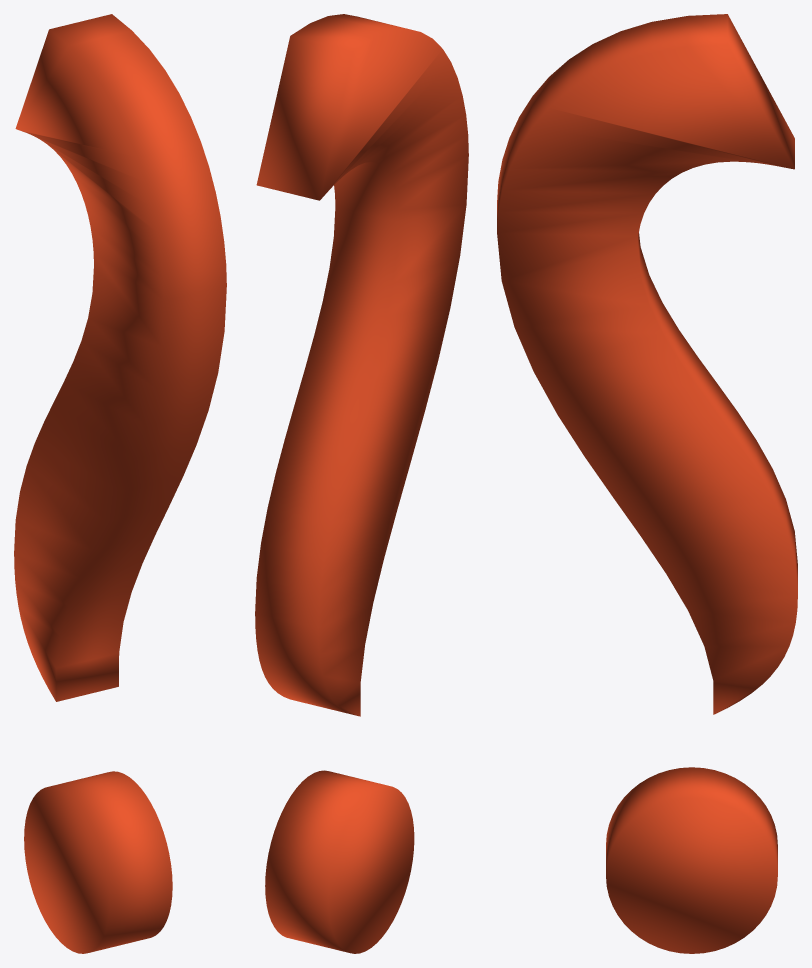
The model's file is FrageTecken.fbx.
3 renders of one model, left to right at view 1: azimuth 30°, elevation 25°; view 2: azimuth 150°, elevation 25°; view 3: azimuth 270°, elevation 25°, orthographic.
Visible parts, largest first — view 1: Text.001; view 2: Text.001; view 3: Text.001.
Part boxes in pixels (x1,y1,x2,y2): Text.001: [14, 14, 226, 953]; Text.001: [255, 14, 468, 953]; Text.001: [497, 14, 797, 953].
Bounding box in the file's own units: 15.09 × 62.24 × 207.
